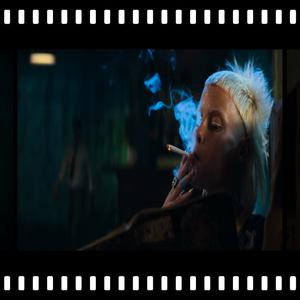cigarette: (167, 144, 192, 159)
